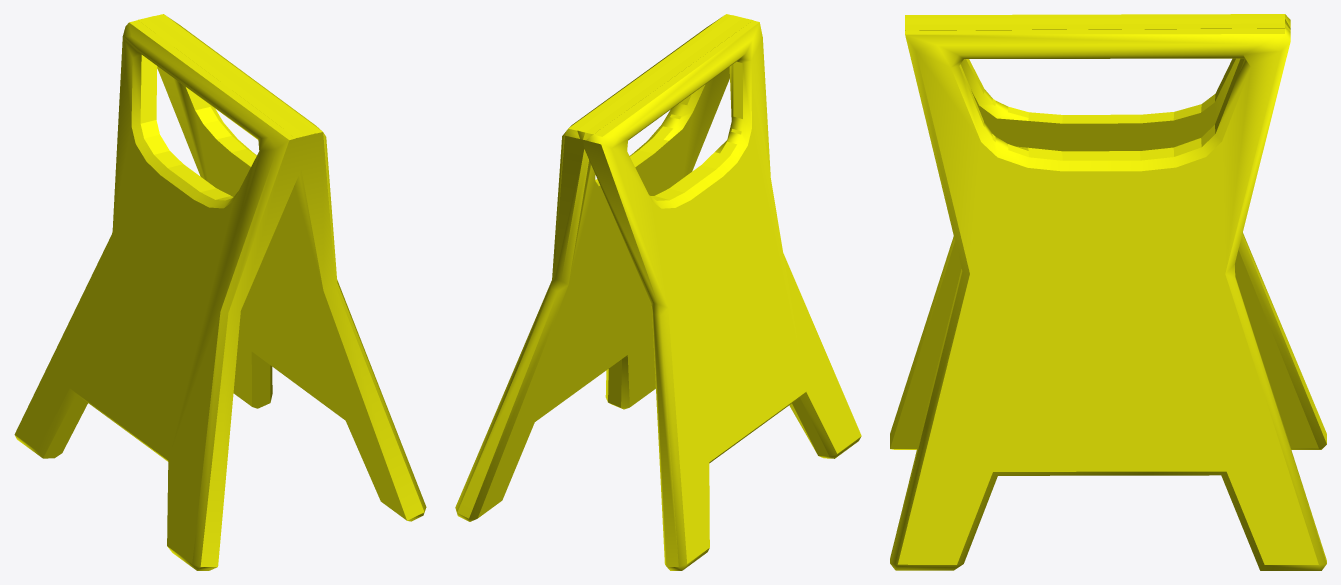
File: slipperysign.fbx
3 renders of one model, left to right at view 1: azimuth 30°, elevation 25°; view 2: azimuth 150°, elevation 25°; view 3: azimuth 270°, elevation 25°, orthographic. The views are drawn at different scales.
Visible parts, largest first — view 1: SlipperySign.001; view 2: SlipperySign.001; view 3: SlipperySign.001.
Part boxes in pixels (<box>): SlipperySign.001: <box>14,14,426,570</box>; SlipperySign.001: <box>455,14,861,570</box>; SlipperySign.001: <box>890,14,1326,570</box>.
Bounding box in the file's own units: 16.83 × 22.78 × 27.92.
